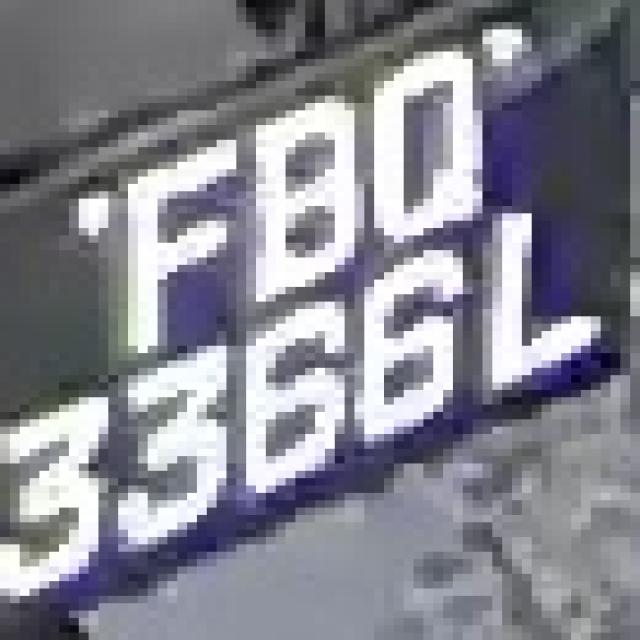3: (98, 338, 236, 559), (0, 390, 118, 603)
6: (325, 235, 473, 456), (216, 294, 354, 486)
B: (246, 66, 345, 294)
F: (89, 110, 246, 368)
L: (453, 213, 620, 427)
Q: (335, 37, 512, 257)
